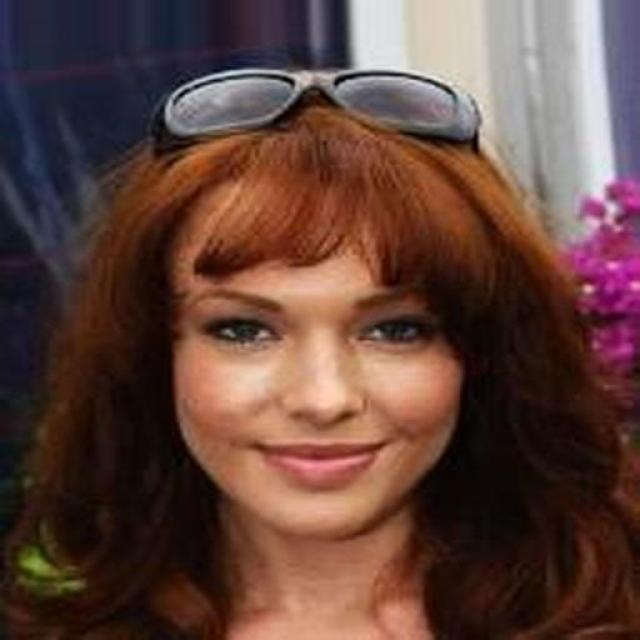bareface: (140, 66, 515, 546)
